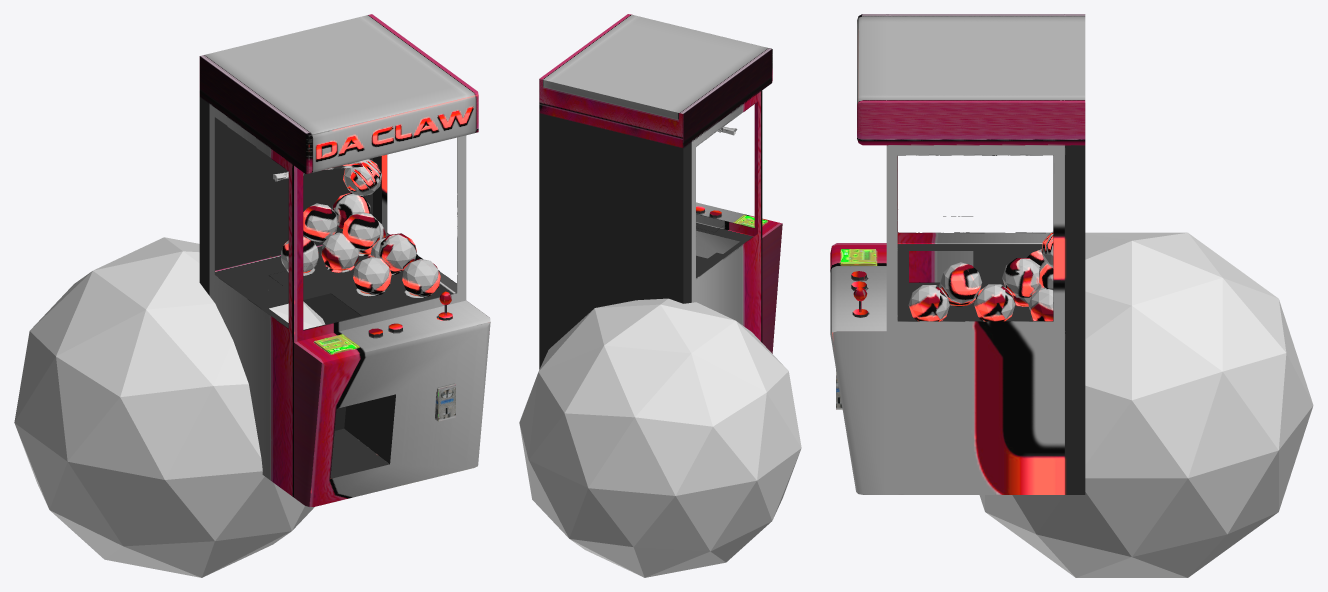
File: claw_machine_lowpoly_rigged.fbx
The picture shows the model from 3 angles, left to right: view 1: azimuth 30°, elevation 25°; view 2: azimuth 150°, elevation 25°; view 3: azimuth 270°, elevation 25°; orthographic projection. The views are drawn at different scales.
Parts seen in each view (by area): view 1: DaClawBAKED_DaClawBAKED_0, Icosphere, BallMain_DaClawBAKED_0; view 2: Icosphere, DaClawBAKED_DaClawBAKED_0; view 3: DaClawBAKED_DaClawBAKED_0, Icosphere.
Boxes of the visible parts, bbox=[...] form: DaClawBAKED_DaClawBAKED_0: bbox=[199, 14, 490, 506]; Icosphere: bbox=[14, 237, 325, 577]; BallMain_DaClawBAKED_0: bbox=[343, 159, 381, 195]; Icosphere: bbox=[519, 298, 801, 577]; DaClawBAKED_DaClawBAKED_0: bbox=[539, 14, 782, 369]; DaClawBAKED_DaClawBAKED_0: bbox=[830, 14, 1085, 494]; Icosphere: bbox=[979, 232, 1313, 577].
Size of the model in its own units: 207 by 336 by 266.
1 material, 1 textured.
